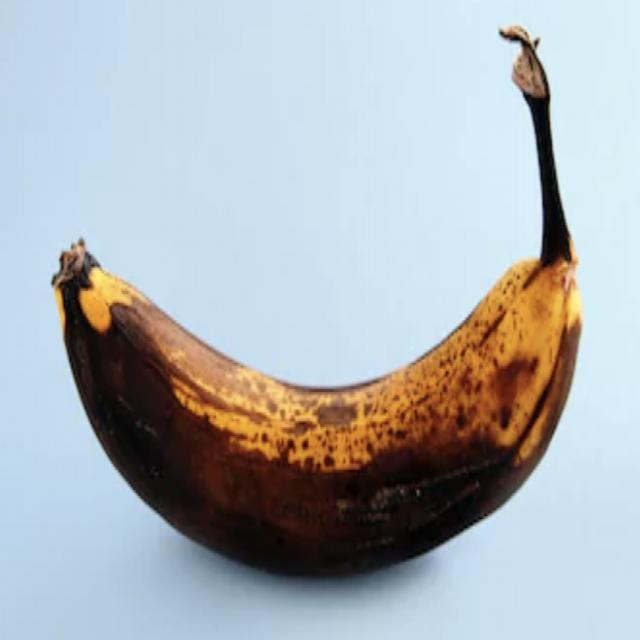rotten-banana: (53, 29, 582, 576)
